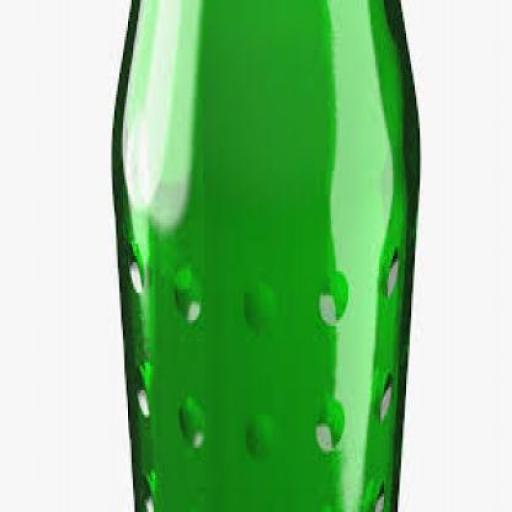glass: (109, 0, 420, 510)
